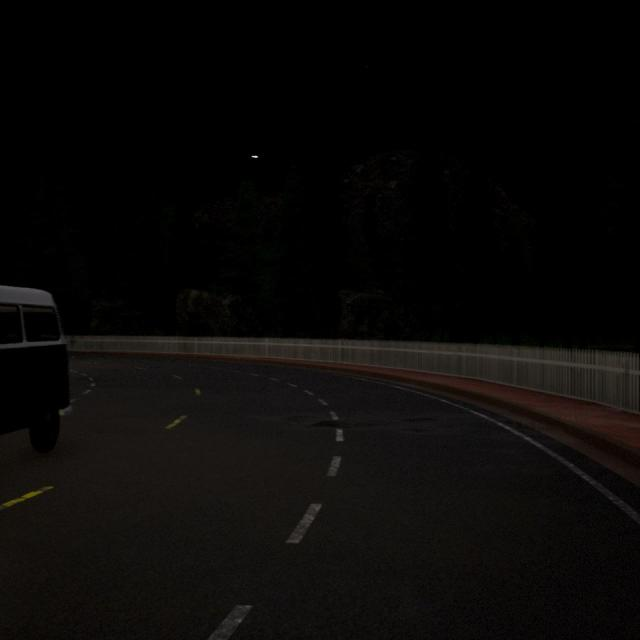Vehicle: (0, 285, 68, 451)
